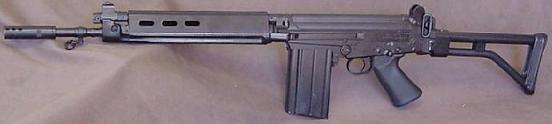rifle: (5, 5, 546, 113)
